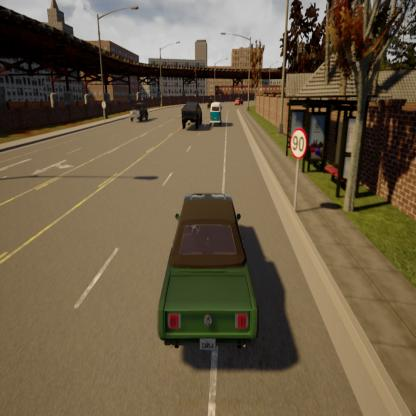Cars: (159, 192, 257, 358), (182, 102, 202, 130), (130, 102, 149, 122), (210, 101, 222, 126), (235, 93, 243, 106)
